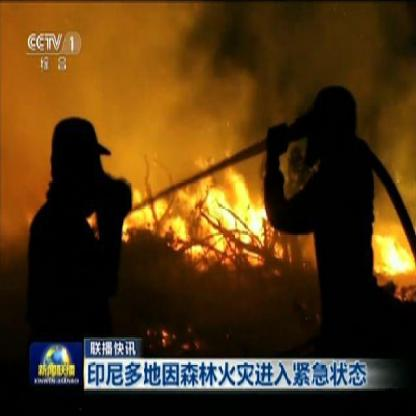fire: (119, 152, 273, 270), (370, 221, 414, 286)
smoke: (42, 9, 205, 125)
